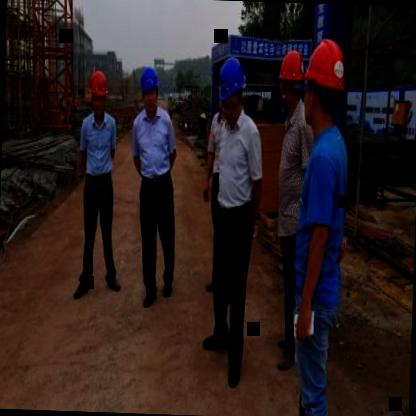helmet: (300, 39, 348, 128), (216, 55, 247, 122), (277, 50, 304, 114), (86, 68, 110, 117), (137, 67, 161, 115)
